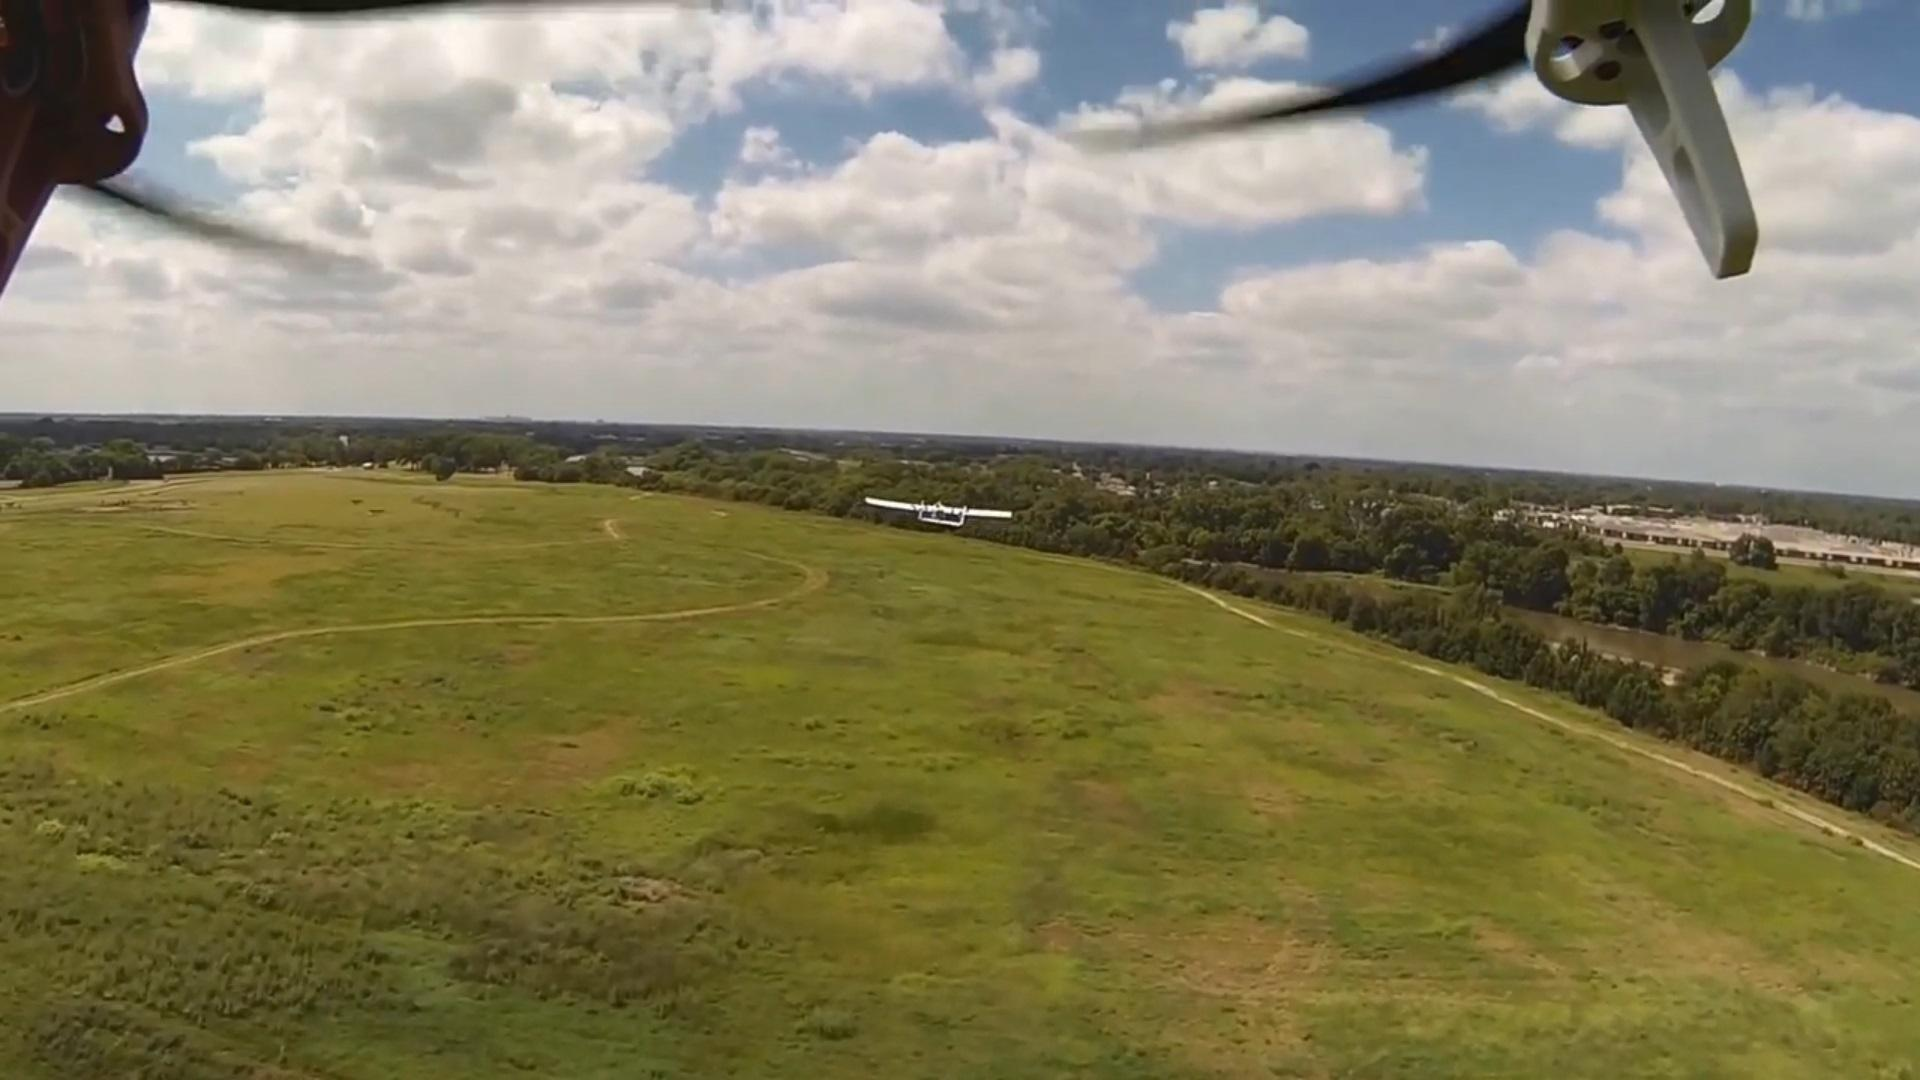Airplane: (861, 488, 1018, 531)
